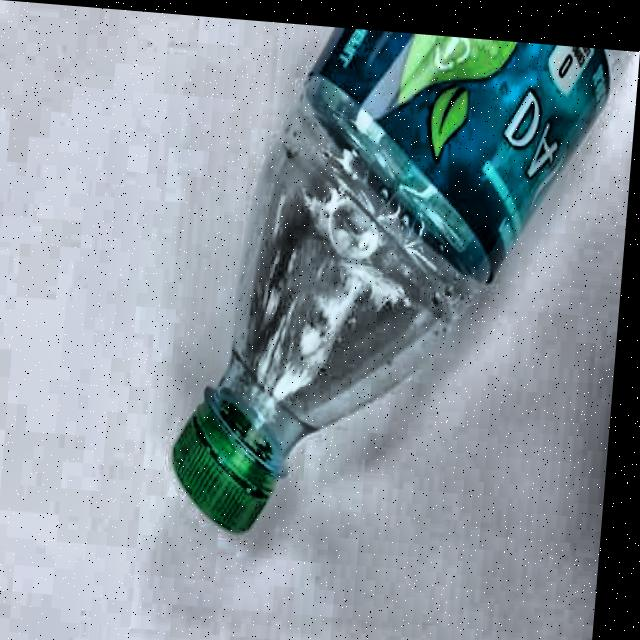plastic: (164, 17, 640, 567)
